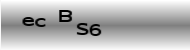6: (89, 22, 101, 36)
B: (57, 9, 72, 22)
S: (76, 21, 89, 35)
c: (34, 16, 46, 27)
e: (21, 15, 35, 27)
